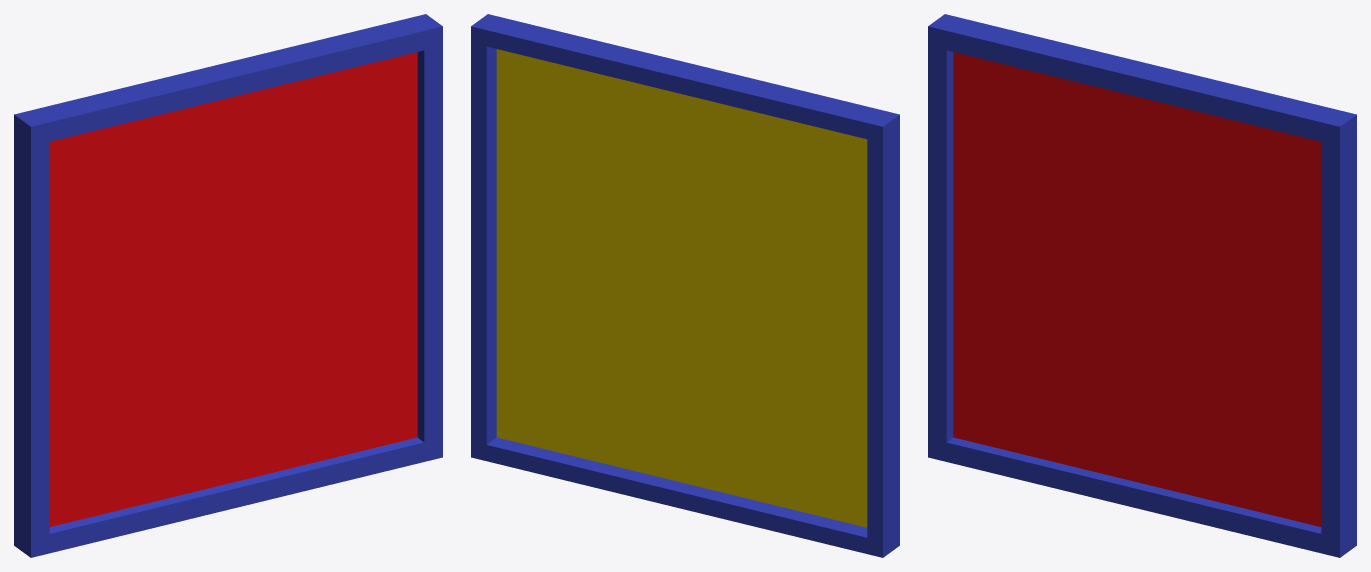
The model's file is painting.glb.
3 renders of one model, left to right at view 1: azimuth 30°, elevation 25°; view 2: azimuth 150°, elevation 25°; view 3: azimuth 330°, elevation 25°, orthographic.
Visible parts, largest first — view 1: Cube.002, Cube; view 2: Cube.001, Cube; view 3: Cube.002, Cube.
Boxes of the visible parts, <box> form: Cube.002: <box>49,52,417,526</box>; Cube: <box>14,14,442,557</box>; Cube.001: <box>496,49,867,527</box>; Cube: <box>471,14,899,557</box>; Cube.002: <box>953,52,1321,526</box>; Cube: <box>928,14,1356,557</box>.
Size of the model in its own units: 0.5248 by 0.5248 by 0.0372.
